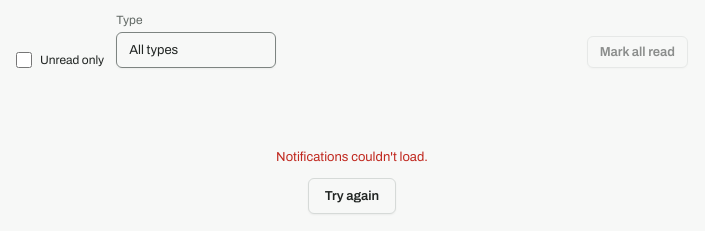
Test: NotificationsList › offers a retry that refetches the first page
This screenshot has width=705, height=231.
expect the text "Notifications couldn't load." is shown: met, box [276,148,428,166]
Click the button "Try again" at (352,196), box [308,178,396,214]
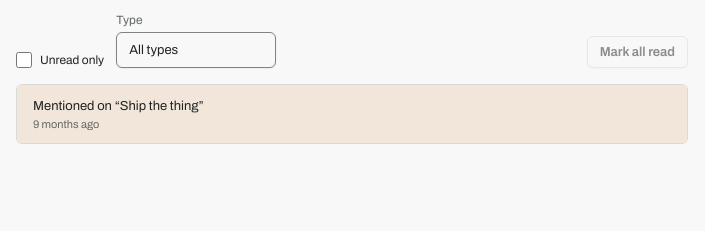
expect the text "Mentioned on “Ship the thing”" is shown: met, box [33,97,204,115]
